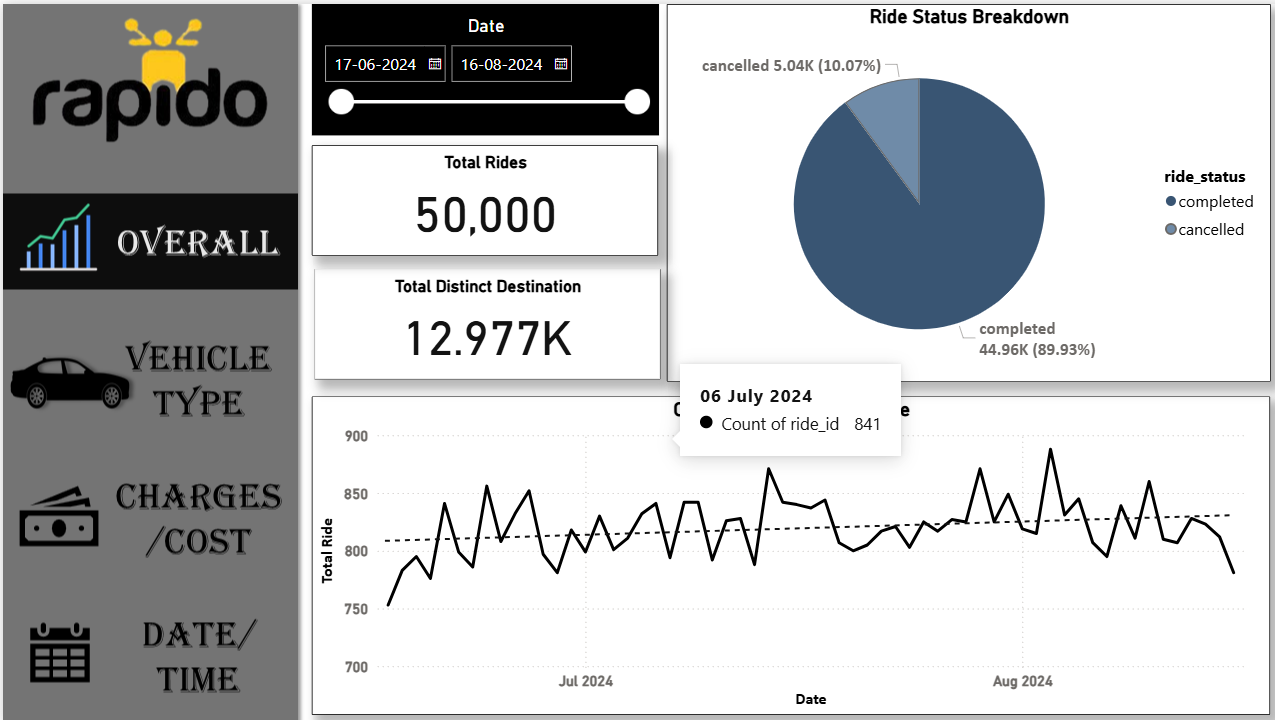

Layout of this report page (visuals, bound fields, positions):
{"tool":"powerbi","page":{"name":"Overall","canvas":[1280,720],"ordinal":0},"visuals":[{"type":"actionButton","box":[0,187,297,101],"z":0},{"type":"actionButton","box":[0,327,297,101],"z":1000},{"type":"actionButton","box":[1,462,297,101],"z":2000},{"type":"actionButton","box":[0,600,297,101],"z":3000},{"type":"lineChart","title":"Count of Booking ID by Date","fields":{"Category":["Sheet1.date"],"Y":["CountNonNull(Sheet1.ride_id)"]},"box":[308.8,392.5,958.8,318.8],"z":4000},{"type":"pieChart","title":"Ride Status Breakdown","fields":{"Category":["Sheet1.ride_status"],"Y":["CountNonNull(Sheet1.ride_status)"]},"box":[663.8,0,603.8,377.5],"z":5000},{"type":"slicer","title":"Date","fields":{"Values":["Sheet1.date"]},"box":[308.6,0,347.1,131.4],"z":6000},{"type":"cardVisual","title":"Total Rides","fields":{"Data":["CountNonNull(Sheet1.ride_id)"]},"box":[308.8,141.2,346.2,110.2],"z":7000},{"type":"cardVisual","title":"Total Distinct Destination","fields":{"Data":["Count(Sheet1.destination)"]},"box":[310.7,265.3,346.2,110],"z":8000}]}

Visuals, with their boxes in screenshot pixels (x1, y1, x2, y2), scaled from the page's 1280x720 canvas onto the 1275x720 screenshot:
actionButton: <region>0, 187, 296, 288</region>
actionButton: <region>0, 327, 296, 428</region>
actionButton: <region>1, 462, 297, 563</region>
actionButton: <region>0, 600, 296, 701</region>
"Count of Booking ID by Date" lineChart: <region>308, 392, 1263, 711</region>
"Ride Status Breakdown" pieChart: <region>661, 0, 1263, 378</region>
"Date" slicer: <region>307, 0, 653, 131</region>
"Total Rides" cardVisual: <region>308, 141, 652, 251</region>
"Total Distinct Destination" cardVisual: <region>309, 265, 654, 375</region>
